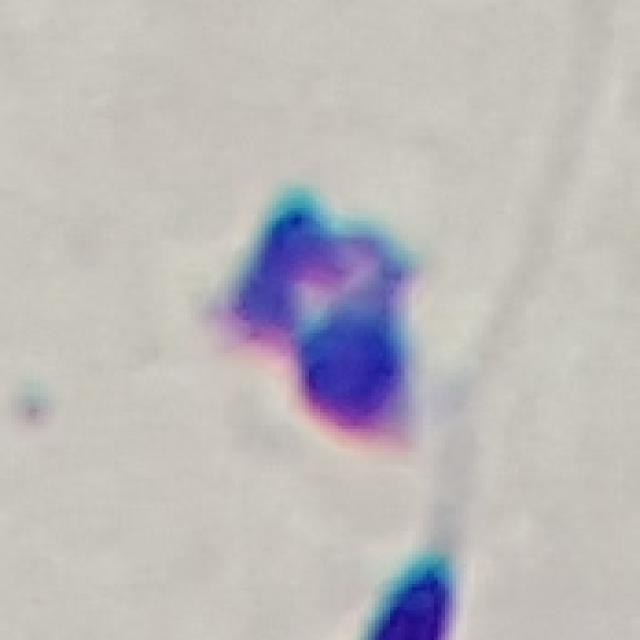non-sperm: (219, 193, 421, 453)
